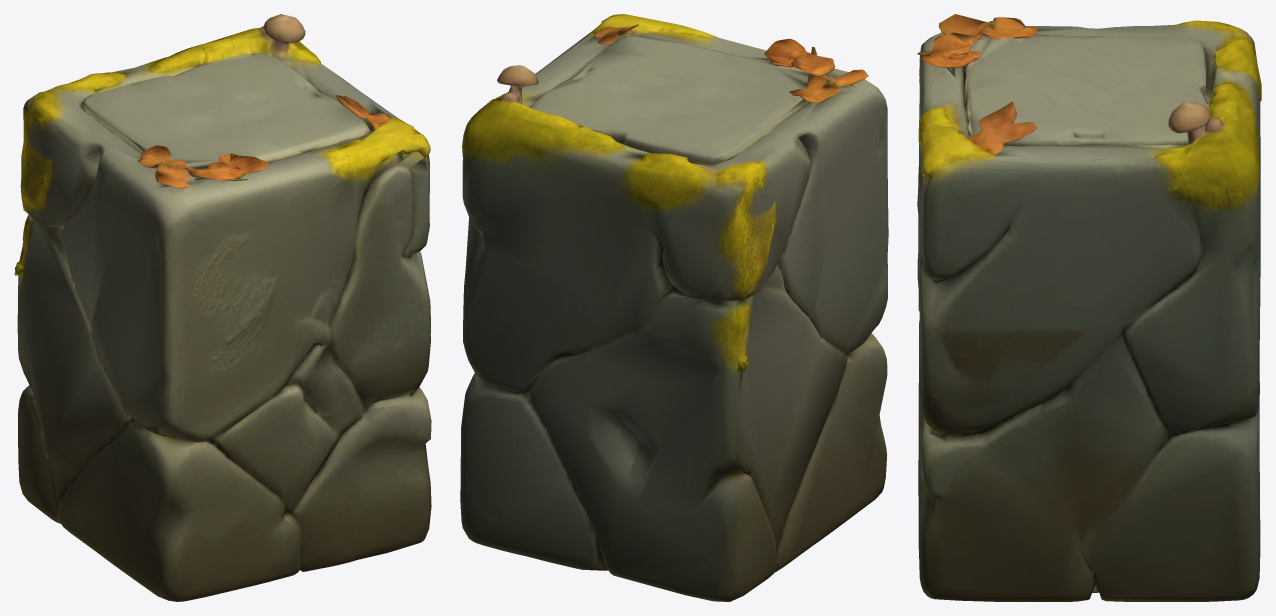
3 views of the same model, side by side, from view 1: azimuth 30°, elevation 25°; view 2: azimuth 150°, elevation 25°; view 3: azimuth 270°, elevation 25° (orthographic). The views are drawn at different scales.
Parts seen in each view (by area): view 1: world; view 2: world; view 3: world.
Boxes of the visible parts, box(x1,y1,x2,y2) form: world: box(14, 14, 431, 601); world: box(460, 14, 888, 601); world: box(917, 14, 1261, 601).
Bounding box in the file's own units: 0.651 × 1 × 0.639.
1 material, 1 textured.
